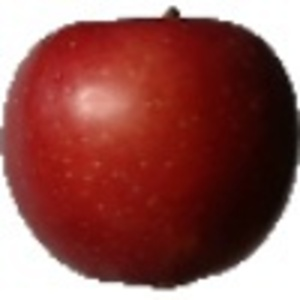maçã braeburn: (1, 8, 297, 289)
